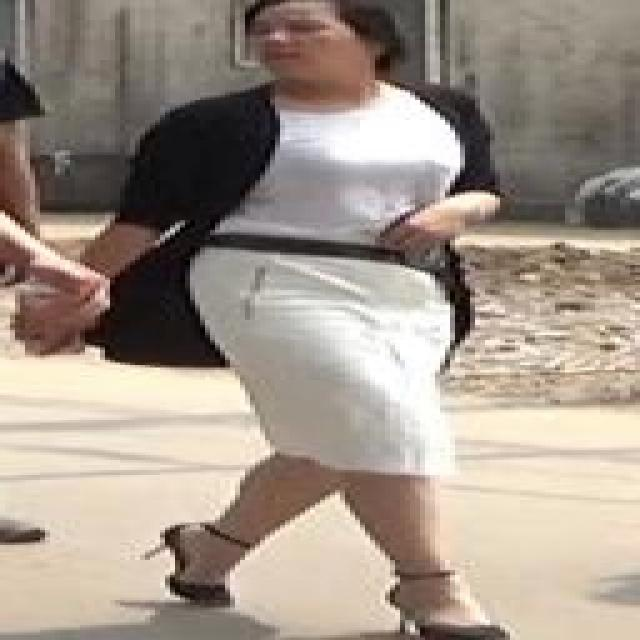adult: (41, 0, 526, 640)
